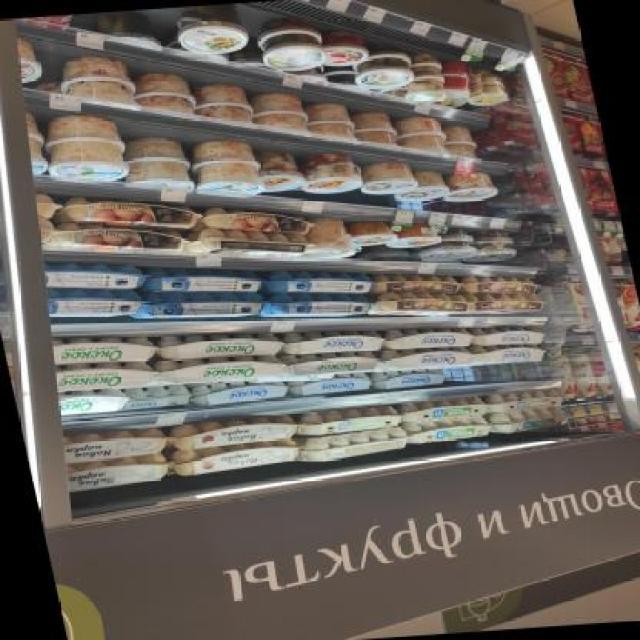Egg: (172, 440, 303, 479), (126, 288, 266, 324), (165, 3, 258, 57), (61, 454, 177, 495), (168, 415, 300, 451), (151, 353, 289, 385), (153, 329, 286, 362), (41, 258, 152, 295), (140, 267, 268, 299), (252, 266, 375, 299), (56, 53, 139, 101), (61, 428, 173, 462), (259, 289, 371, 323), (50, 333, 160, 367), (47, 140, 130, 184), (294, 405, 402, 438), (50, 360, 158, 393), (44, 289, 148, 323), (281, 327, 388, 358), (293, 153, 367, 197), (369, 290, 471, 320), (190, 161, 268, 200), (253, 35, 331, 74), (344, 55, 422, 94), (131, 71, 197, 115), (191, 379, 293, 407), (374, 345, 474, 373), (367, 270, 463, 299), (121, 157, 195, 194), (382, 325, 479, 353), (276, 351, 380, 377), (192, 82, 254, 125), (297, 217, 355, 260), (250, 91, 308, 134), (403, 416, 491, 444), (489, 407, 573, 435), (248, 150, 304, 192), (466, 290, 550, 318), (398, 397, 488, 423), (285, 373, 373, 397), (185, 137, 257, 166), (118, 136, 190, 165), (396, 117, 450, 155), (351, 110, 405, 148), (305, 102, 359, 140), (484, 389, 568, 413), (318, 30, 371, 68), (470, 342, 547, 368), (120, 384, 194, 411), (461, 273, 543, 297), (468, 324, 547, 348), (360, 162, 417, 195), (57, 389, 121, 416), (369, 368, 447, 390), (443, 173, 499, 203), (396, 171, 452, 201), (441, 125, 485, 162), (344, 223, 398, 249), (417, 240, 476, 262), (390, 225, 443, 249), (468, 242, 520, 264)
